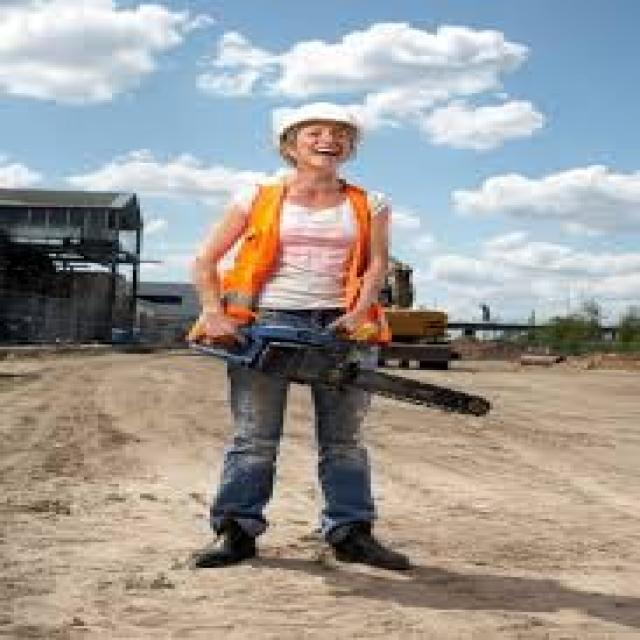Reflective-Jacket: (199, 172, 406, 361)
Safety-Helmet: (252, 93, 388, 149)
